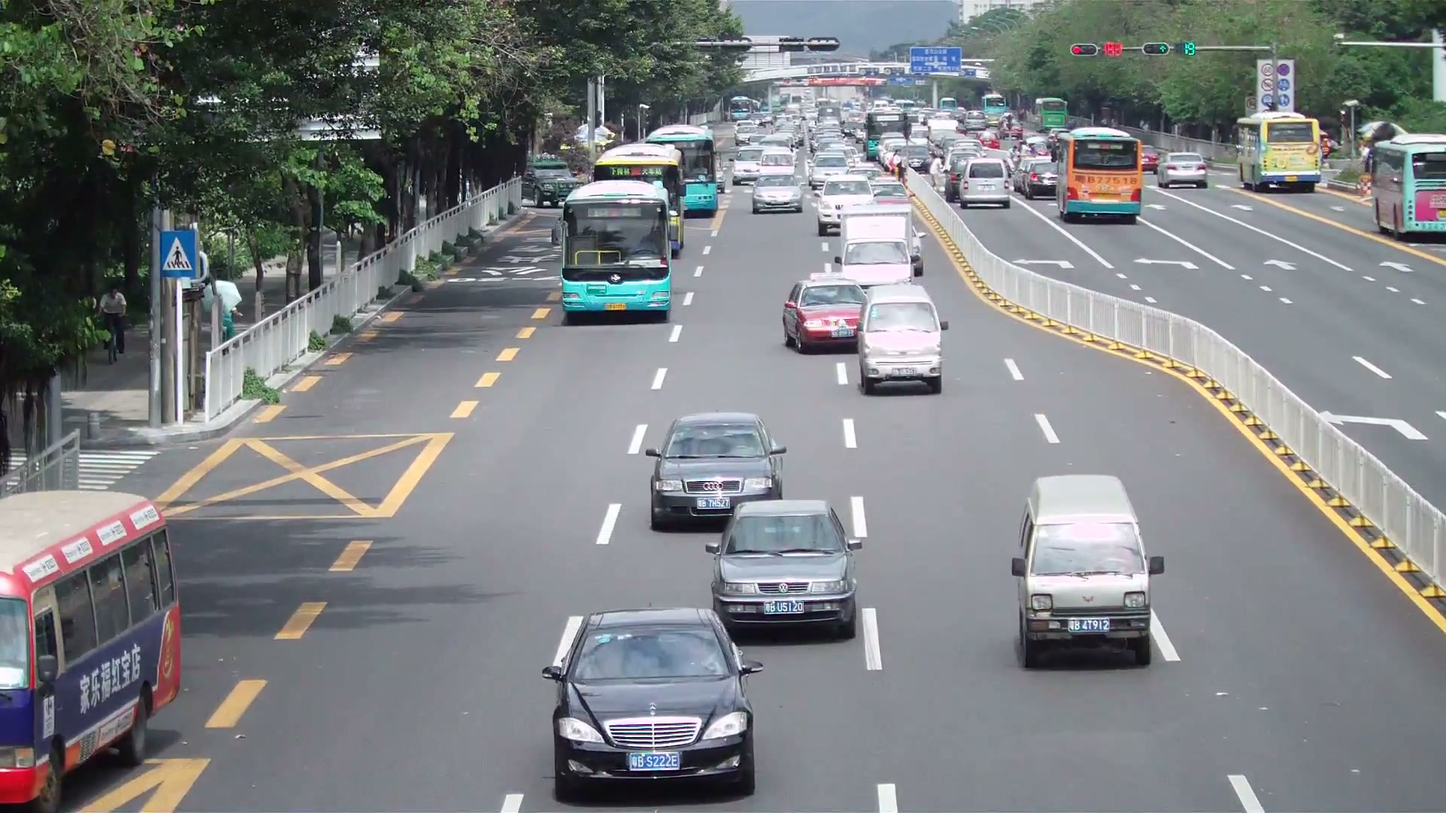bus: (1, 488, 185, 807), (559, 177, 674, 324), (592, 142, 687, 248), (1055, 126, 1143, 224), (1371, 134, 1445, 239), (646, 124, 717, 195)
car: (542, 607, 762, 801), (1011, 473, 1164, 670), (706, 497, 864, 638), (641, 412, 787, 530), (857, 281, 946, 395), (781, 277, 869, 353), (837, 207, 920, 286), (815, 186, 876, 237), (956, 156, 1012, 210), (750, 172, 806, 215), (1156, 152, 1210, 190), (682, 180, 720, 218), (1139, 148, 1160, 170)
pedestrian: (97, 285, 130, 363)
truck: (1237, 111, 1324, 191), (958, 157, 1013, 210)
